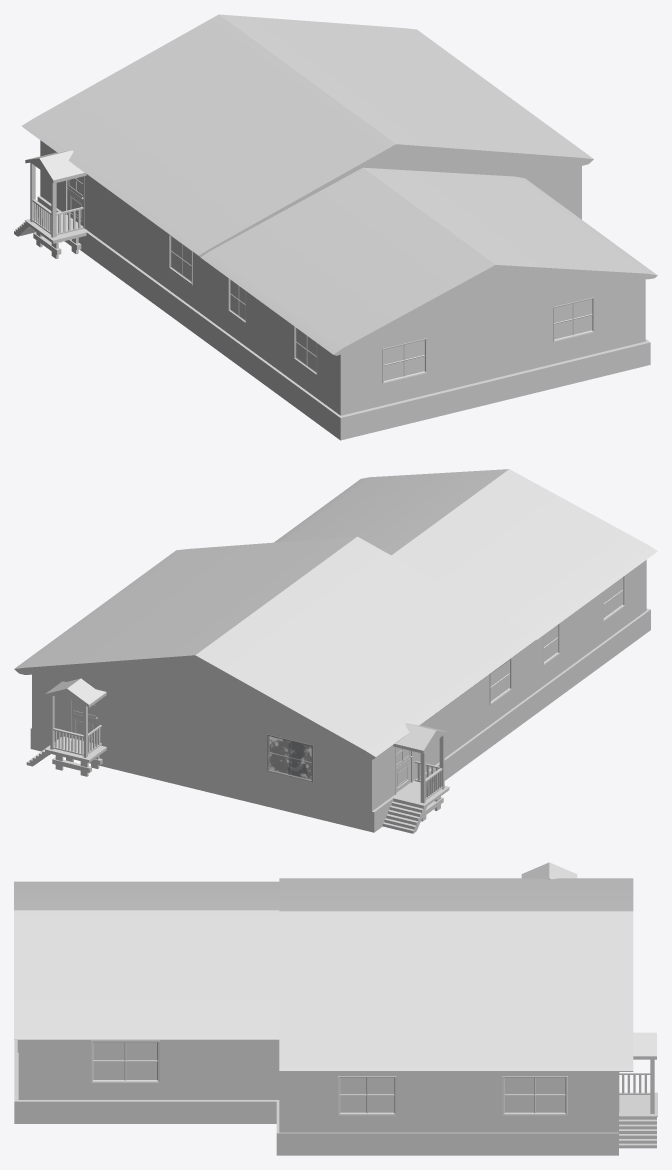
Rendered from House.fbx.
3 views of the same model, one above another, from view 1: azimuth 30°, elevation 25°; view 2: azimuth 150°, elevation 25°; view 3: azimuth 270°, elevation 25° (orthographic). The views are drawn at different scales.
Visible parts, largest first — view 1: Roof, Wall, Base, Main_Entrance02, Window05, Window06, Window02, Window04, Door.001; view 2: Roof, Wall, Base, Main_Entrance02, Main_Entrance, Window01, Door, Window02, Window04, Door.001; view 3: Roof, Wall, Base, Main_Entrance, Window07, Window09, Window08, Main_Entrance02.
Boxes of the visible parts, x1,y1,x2,y2 form: Roof: (22,14,657,355); Wall: (40,140,645,415); Base: (37,196,650,440); Main_Entrance02: (14,150,86,258); Window05: (382,338,427,383); Window06: (553,297,594,341); Window02: (168,234,192,285); Window04: (293,326,317,375); Door.001: (67,176,83,226); Roof: (14,469,657,759); Wall: (32,560,646,811); Base: (30,608,650,832); Main_Entrance02: (382,723,449,833); Main_Entrance: (26,678,106,776); Window01: (267,734,313,782); Door: (71,700,97,743); Window02: (489,658,511,704); Window04: (603,575,625,621); Door.001: (396,747,410,792); Roof: (14,878,633,1071); Wall: (18,1040,618,1132); Base: (14,1040,618,1155); Main_Entrance: (619,1032,657,1148); Window07: (91,1040,159,1082); Window09: (502,1076,567,1115); Window08: (338,1076,396,1115); Main_Entrance02: (521,862,577,879).
Size of the model in its own units: 4361 by 1521 by 5793.
